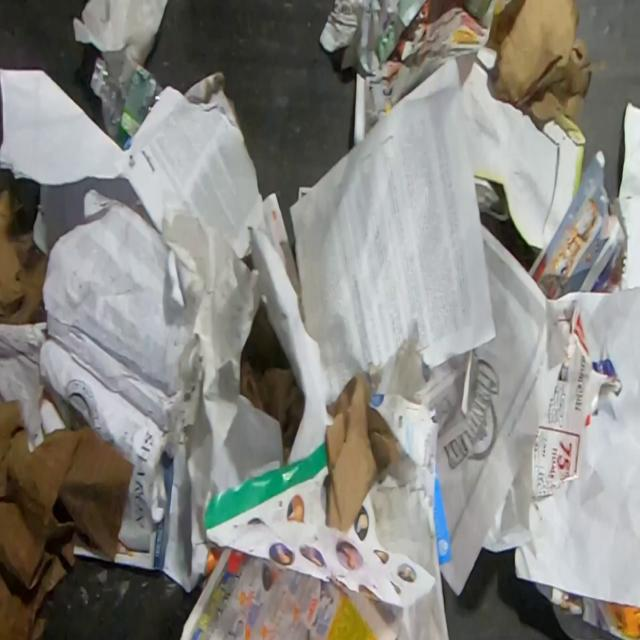cardboard: (0, 396, 136, 640), (456, 45, 586, 253), (483, 0, 605, 124), (526, 148, 625, 300), (325, 369, 400, 535), (240, 301, 304, 451), (0, 170, 48, 326)
rigid_plastic: (89, 56, 164, 151)
